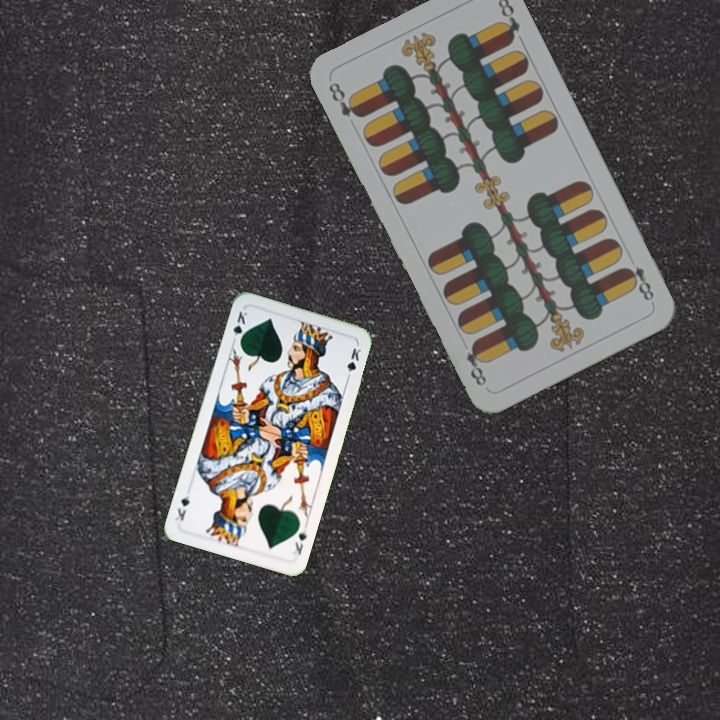E8: (324, 78, 365, 121), (620, 261, 657, 304)
GK: (228, 307, 251, 347), (288, 525, 309, 560)
